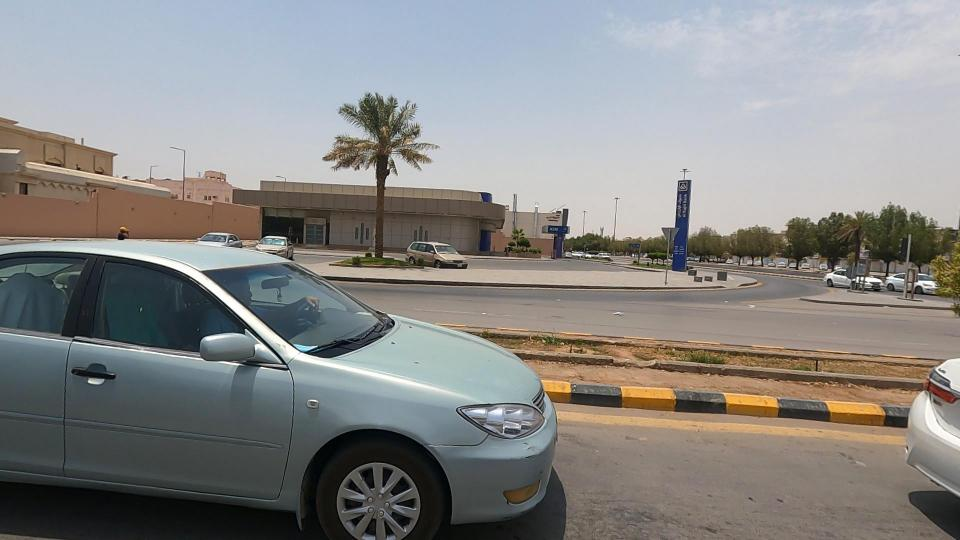CLUTTER_SIDEWALK: (467, 279, 910, 439)
